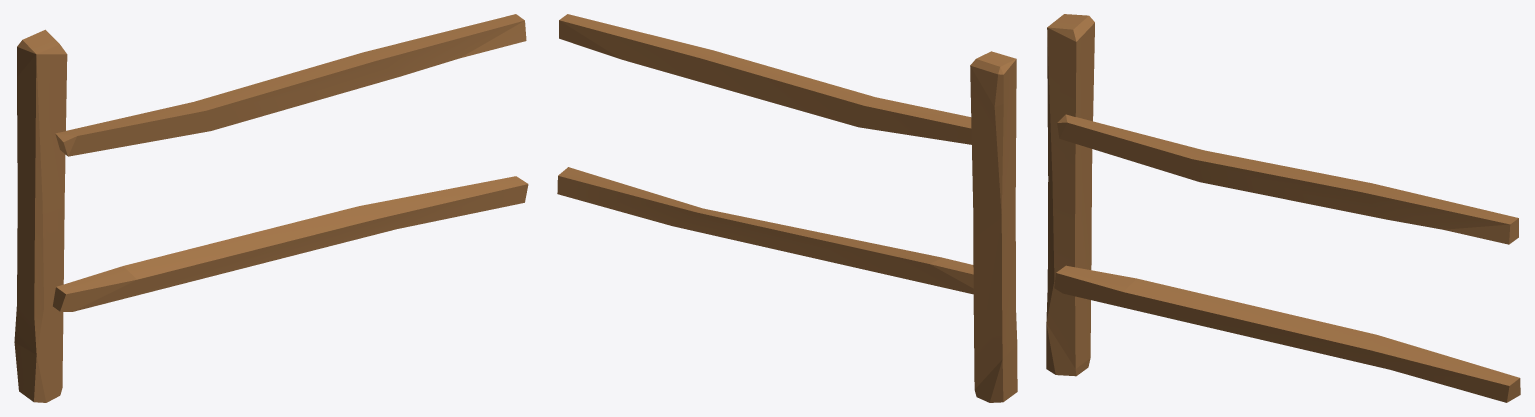
Rendered from Fence_WoodA_A.fbx.
3 views of the same model, side by side, from view 1: azimuth 30°, elevation 25°; view 2: azimuth 150°, elevation 25°; view 3: azimuth 330°, elevation 25° (orthographic). The views are drawn at different scales.
Visible parts, largest first — view 1: Fence_WoodA_A; view 2: Fence_WoodA_A; view 3: Fence_WoodA_A.
Part boxes in pixels (x1=…): Fence_WoodA_A: x1=14, y1=14, x2=528, y2=402; Fence_WoodA_A: x1=557, y1=14, x2=1017, y2=402; Fence_WoodA_A: x1=1046, y1=14, x2=1520, y2=402.
Size of the model in its own units: 220 by 155 by 23.66.
